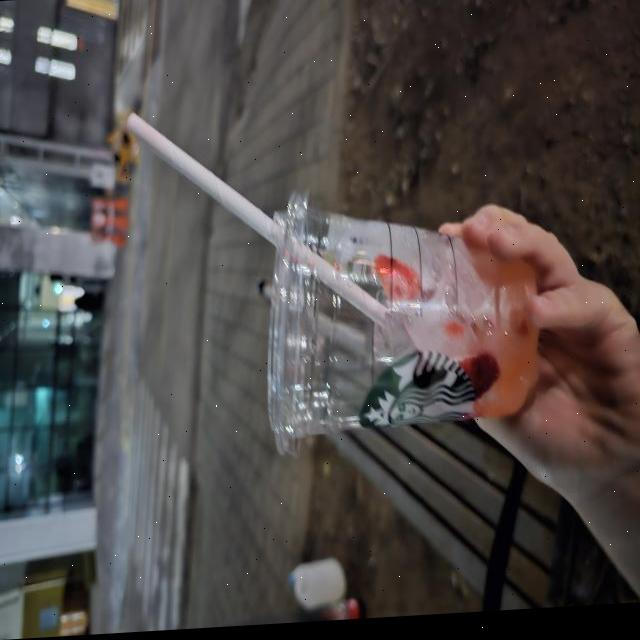cup: (262, 177, 542, 475)
